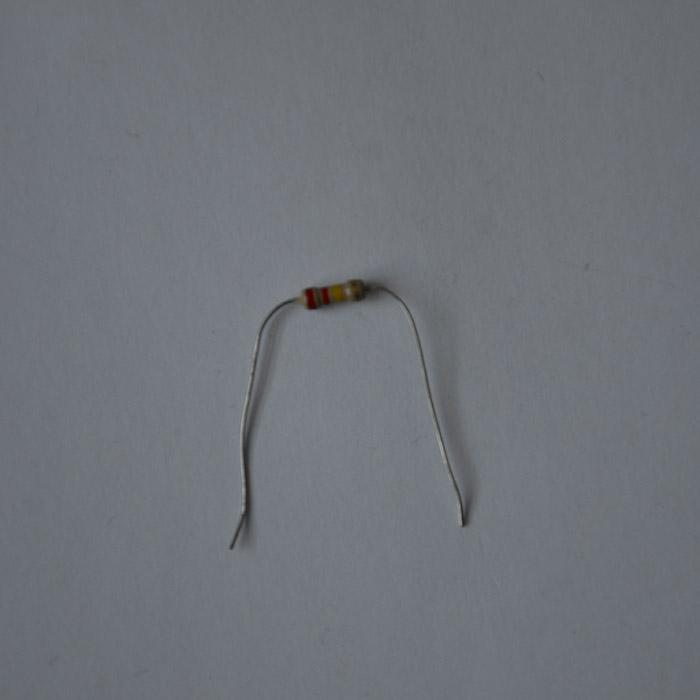resistor: (301, 278, 369, 309)
